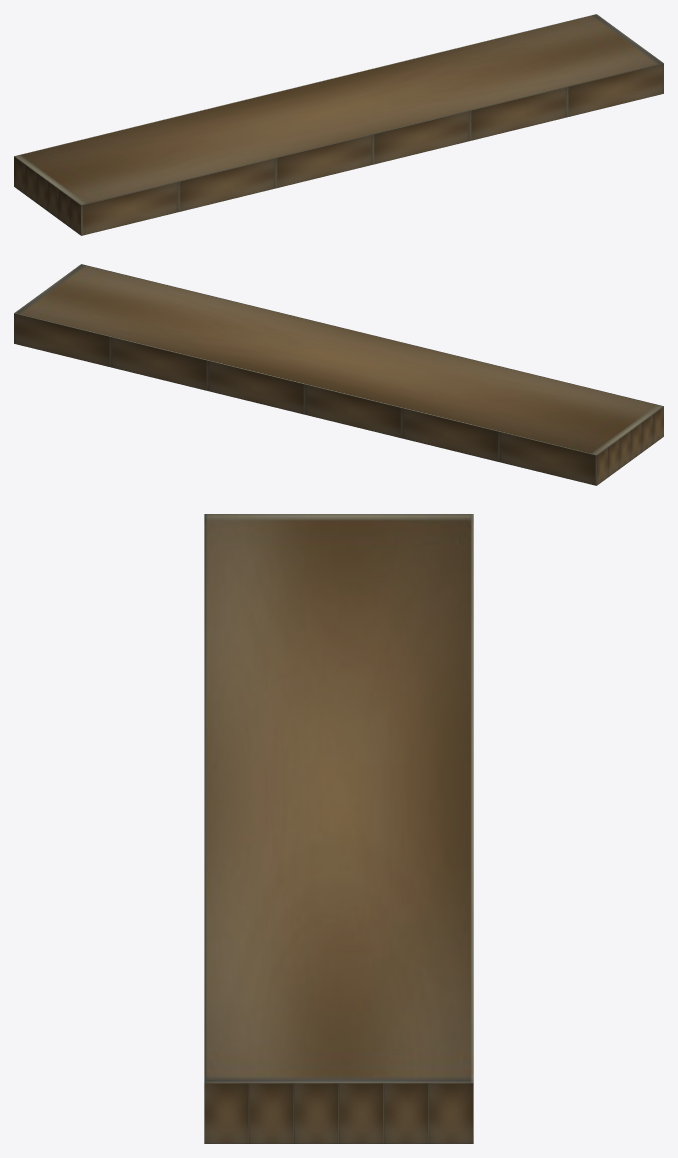
The model's file is FadePlatform2_1x5.fbx.
3 renders of one model, top to bottom at view 1: azimuth 30°, elevation 25°; view 2: azimuth 150°, elevation 25°; view 3: azimuth 270°, elevation 25°, orthographic. The views are drawn at different scales.
Visible parts, largest first — view 1: Col; view 2: Col; view 3: Col.
Boxes of the visible parts, x1,y1,x2,y2 form: Col: (14, 14, 663, 235); Col: (14, 264, 663, 485); Col: (204, 514, 473, 1143).
Bounding box in the file's own units: 10 × 0.5 × 2.
3 materials, 3 textured.
